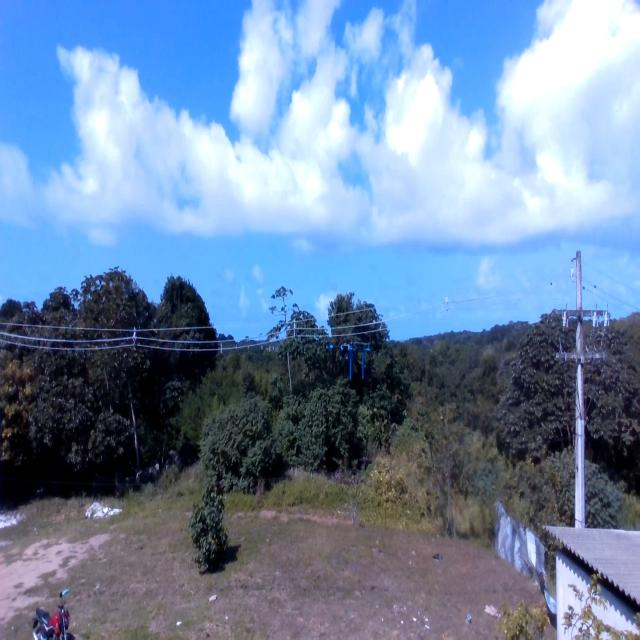-uav-: (325, 330, 374, 392)
